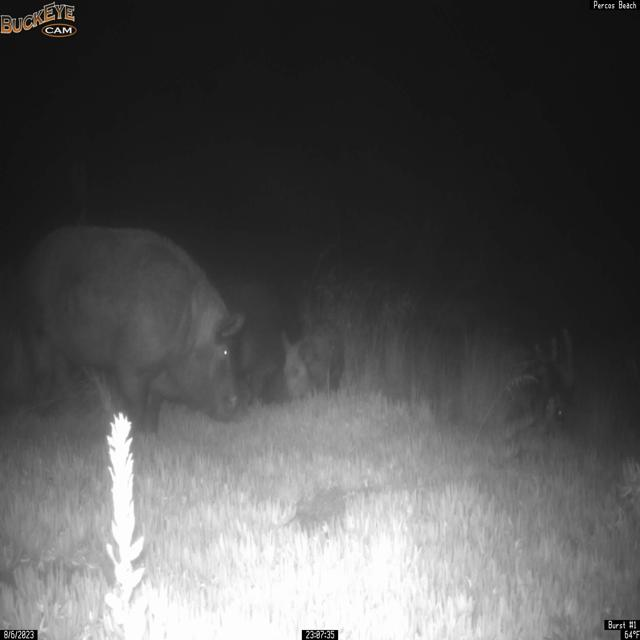pig: (14, 222, 248, 438)
